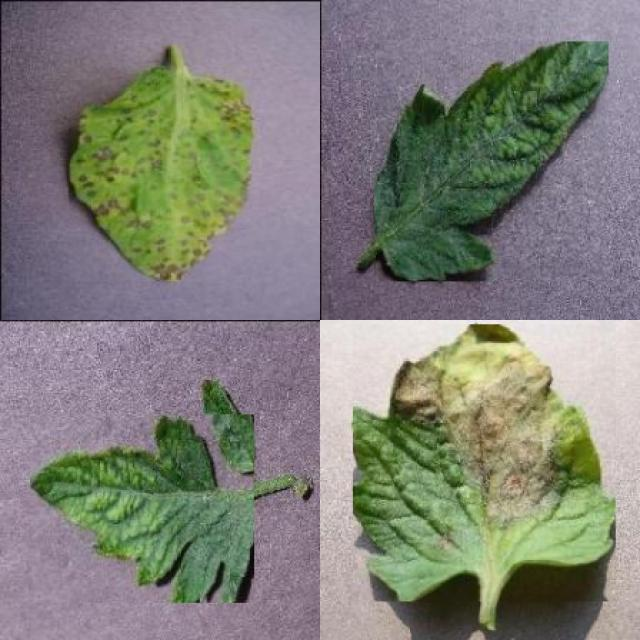Late Blight: (353, 325, 616, 602)
Mosaic Virus: (374, 41, 609, 282), (29, 414, 254, 603)
Septoria: (68, 66, 252, 281)
